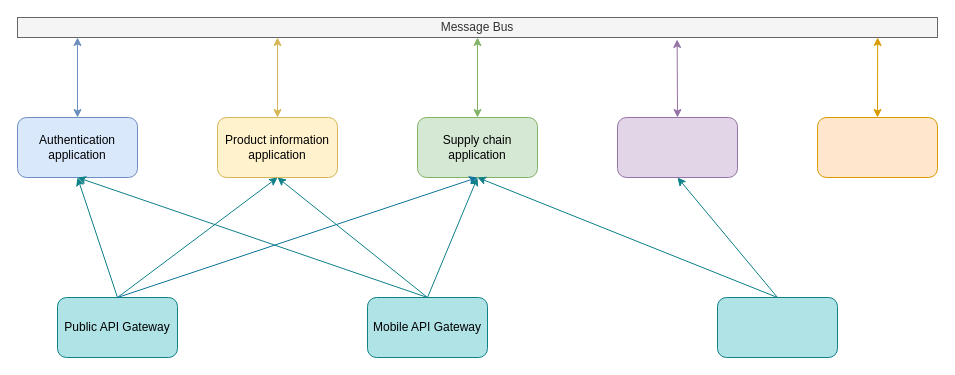
The diagram is 955 pixels wide and 375 high, and some of its shapes have lost their labels. Here are the shapes that lost their labels. From the top down, the centre of each, then its label:
pixel 677 147: Accountancy application
pixel 877 147: Data analytics application
pixel 777 327: Private API Gateway
